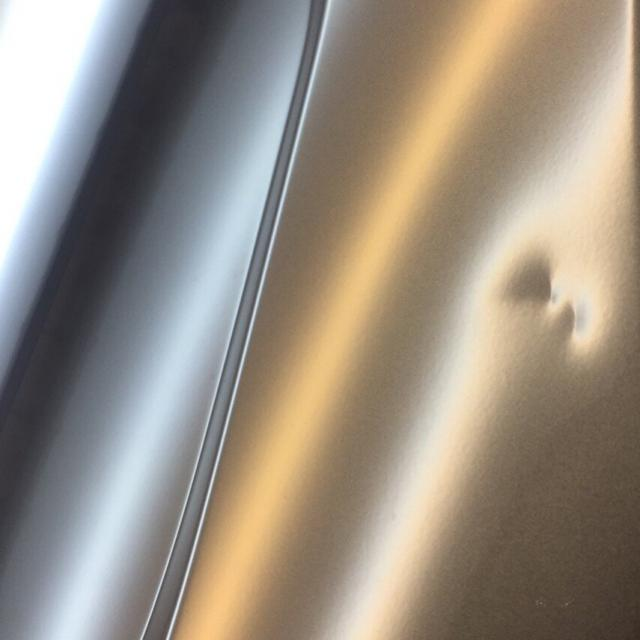dents: (480, 212, 640, 378)
